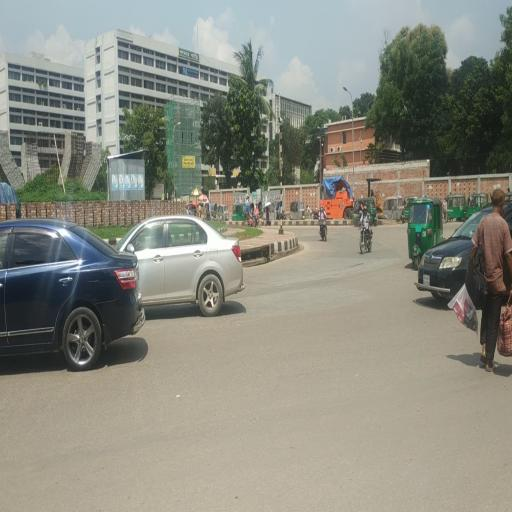car: (1, 219, 148, 375), (121, 213, 244, 319), (414, 217, 475, 304)
motorbike: (359, 206, 375, 255), (318, 205, 330, 245)
rickshaw: (245, 204, 264, 229)
three wheelers (CNG): (408, 199, 446, 244), (383, 198, 406, 225), (447, 196, 469, 224), (290, 200, 306, 221), (370, 198, 380, 229), (232, 204, 245, 222), (218, 204, 230, 221)
